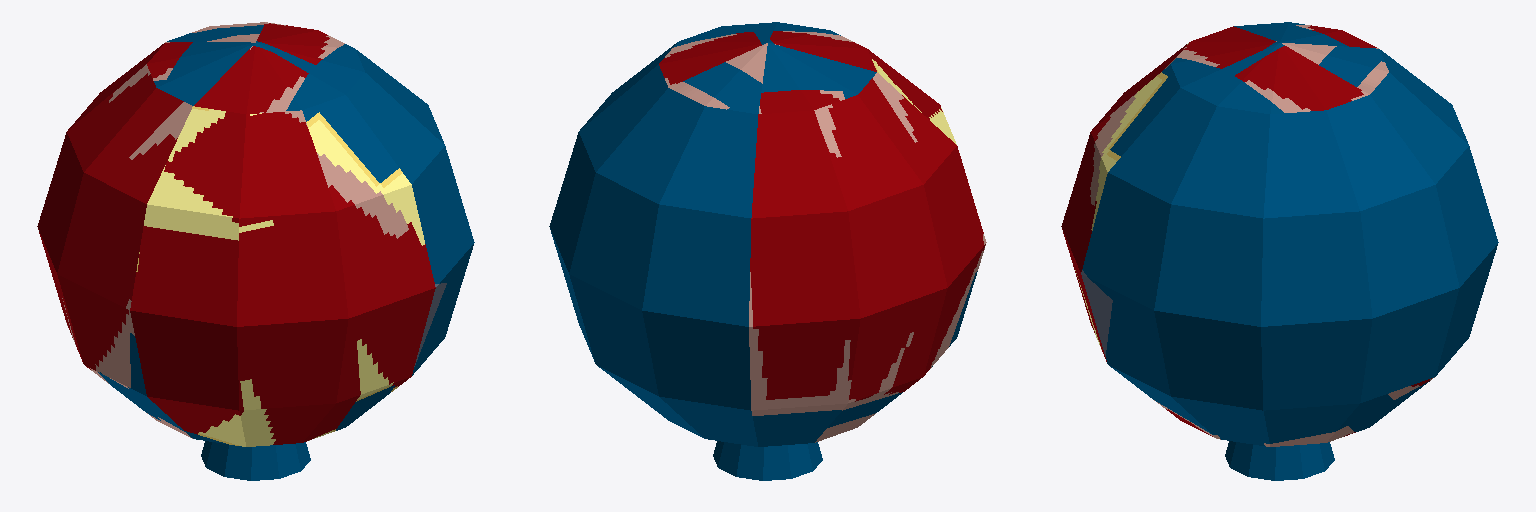
The picture shows the model from 3 angles: view 1: azimuth 30°, elevation 25°; view 2: azimuth 150°, elevation 25°; view 3: azimuth 270°, elevation 25°; orthographic projection.
Parts seen in each view (by area): view 1: head; view 2: head; view 3: head.
Part boxes in pixels (bbox=[...]): head: bbox=[37, 22, 474, 480]; head: bbox=[549, 22, 986, 480]; head: bbox=[1061, 22, 1498, 480].
Size of the model in its own units: 0.5801 by 0.625 by 0.5801.
Materials: 1 (1 with a texture image).